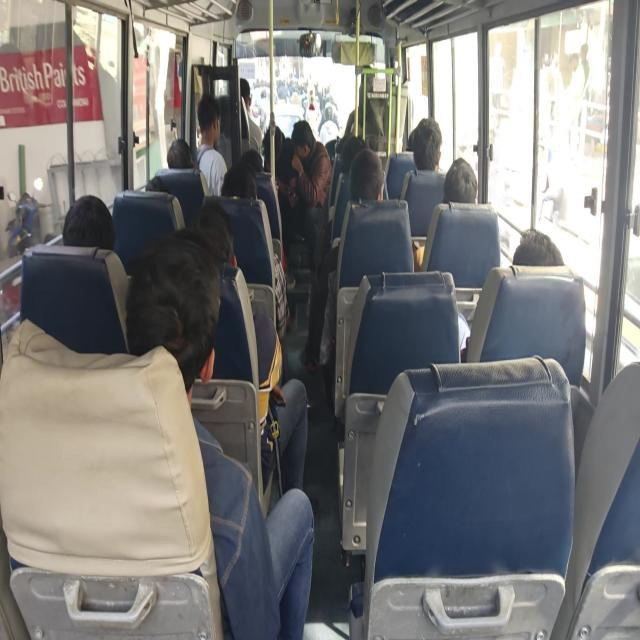person: (140, 271, 217, 404)
